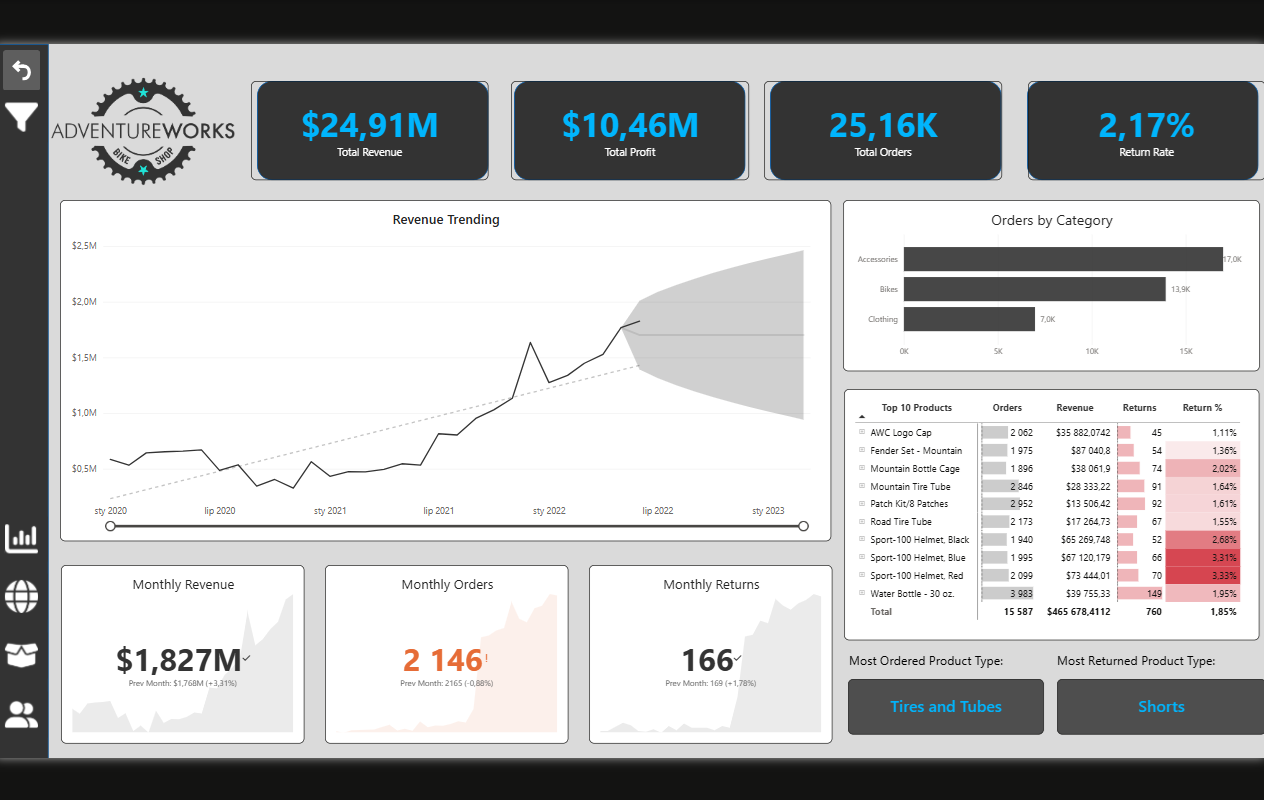

What the dashboard file says about the page in this screenshot:
{"tool":"powerbi","page":{"name":"Exec Dashboard","canvas":[1920,1080],"ordinal":0},"visuals":[{"type":"image","title":"AW Logo","box":[54.8,9.5,340.5,245.2],"z":0},{"type":"shape","title":"Navi background","box":[0,0,81,1081],"z":1000},{"type":"group","id":"g1","title":"KPI Values","box":[387.1,55.7,1532.9,150],"z":2000},{"type":"shape","box":[396.1,55.7,350,150],"z":2000,"group":"g1"},{"type":"card","fields":{"Values":["Measure Table.Total Revenue"]},"box":[387.1,55.7,358.6,150],"z":2500,"group":"g1"},{"type":"lineChart","title":"Revenue Trending","fields":{"Category":["Calendar Lookup.Year","Calendar Lookup.Start of Quarter","Calendar Lookup.Start of Month"],"Y":["Measure Table.Total Revenue"]},"box":[97.7,236.4,1165.9,515.9],"z":3000},{"type":"shape","box":[784.2,55.7,350,150],"z":4000,"group":"g1"},{"type":"kpi","title":"Monthly Revenue","fields":{"Goal":["Measure Table.Previous Month Revenue"],"Indicator":["Measure Table.Total Revenue"],"TrendLine":["Calendar Lookup.Start of Month"]},"box":[99.5,787.7,368.2,270.5],"z":4000},{"type":"shape","box":[1172.3,55.7,350,150],"z":5000,"group":"g1"},{"type":"kpi","title":"Monthly Orders","fields":{"Goal":["Measure Table.Previous Month Orders"],"Indicator":["Measure Table.Total Orders"],"TrendLine":["Calendar Lookup.Start of Month"]},"box":[498.4,787.7,368.2,270.5],"z":5000},{"type":"shape","box":[1560.4,55.7,350,150],"z":6000,"group":"g1"},{"type":"kpi","title":"Monthly Returns","fields":{"Goal":["Measure Table.Previous Month Returns"],"Indicator":["Measure Table.Total Returns"],"TrendLine":["Calendar Lookup.Start of Month"]},"box":[897.3,787.7,368.2,270.5],"z":6000},{"type":"card","fields":{"Values":["Measure Table.Total Profit"]},"box":[780,55.7,360,150],"z":7000,"group":"g1"},{"type":"clusteredBarChart","title":"Orders by Category","fields":{"Category":["Product Categories Lookup.CategoryName"],"Y":["Measure Table.Total Orders"]},"box":[1281.8,236.4,629.5,259.1],"z":7000},{"type":"card","fields":{"Values":["Measure Table.Total Orders"]},"box":[1162.8,55.7,360,150],"z":8000,"group":"g1"},{"type":"pivotTable","fields":{"Rows":["Product Lookup.ProductName","Product Categories Lookup.CategoryName"],"Values":["Measure Table.Total Orders","Measure Table.Total Revenue","Measure Table.Total Returns","Measure Table.Return Rate"]},"box":[1284,522,628,380],"z":8000},{"type":"card","fields":{"Values":["Measure Table.Return Rate"]},"box":[1561.4,55.7,358.6,150],"z":9000,"group":"g1"},{"type":"card","fields":{"Values":["Min(Product Subcategories Lookup.SubcategoryName)"]},"box":[1289.2,960.3,296.1,84.3],"z":9000},{"type":"textbox","box":[1291.1,919.2,235.3,41.2],"z":10000},{"type":"card","fields":{"Values":["Min(Product Subcategories Lookup.SubcategoryName)"]},"box":[1604.9,960.3,315.7,84.3],"z":11000},{"type":"textbox","box":[1604.9,919.2,270.6,41.2],"z":12000},{"type":"actionButton","box":[12.3,8.8,56.1,61.4],"z":13000},{"type":"actionButton","box":[0,712,80,72],"z":14000},{"type":"actionButton","box":[0,887.3,80,74],"z":15000},{"type":"actionButton","box":[0,798.7,80,74],"z":16000},{"type":"actionButton","box":[0,976,80,74],"z":17000},{"type":"actionButton","box":[0,70,80,82],"z":18000}]}

Visuals, with their boxes on the page's 1920x1080 design canvas (x1, y1, x2, y2). These are canvas units, not pixel positions in the 1264x800 screenshot, which may show the page scaled, cropped or inside an application window:
"AW Logo" image: bbox(55, 10, 395, 255)
"Navi background" shape: bbox(0, 0, 81, 1081)
"KPI Values" group: bbox(387, 56, 1920, 206)
shape: bbox(396, 56, 746, 206)
card - Measure Table.Total Revenue: bbox(387, 56, 746, 206)
"Revenue Trending" lineChart: bbox(98, 236, 1264, 752)
shape: bbox(784, 56, 1134, 206)
"Monthly Revenue" kpi: bbox(100, 788, 468, 1058)
shape: bbox(1172, 56, 1522, 206)
"Monthly Orders" kpi: bbox(498, 788, 867, 1058)
shape: bbox(1560, 56, 1910, 206)
"Monthly Returns" kpi: bbox(897, 788, 1266, 1058)
card - Measure Table.Total Profit: bbox(780, 56, 1140, 206)
"Orders by Category" clusteredBarChart: bbox(1282, 236, 1911, 496)
card - Measure Table.Total Orders: bbox(1163, 56, 1523, 206)
pivotTable - Product Lookup.ProductName x Product Categories Lookup.CategoryName: bbox(1284, 522, 1912, 902)
card - Measure Table.Return Rate: bbox(1561, 56, 1920, 206)
card - Min(Product Subcategories Lookup.SubcategoryName): bbox(1289, 960, 1585, 1045)
textbox: bbox(1291, 919, 1526, 960)
card - Min(Product Subcategories Lookup.SubcategoryName): bbox(1605, 960, 1921, 1045)
textbox: bbox(1605, 919, 1876, 960)
actionButton: bbox(12, 9, 68, 70)
actionButton: bbox(0, 712, 80, 784)
actionButton: bbox(0, 887, 80, 961)
actionButton: bbox(0, 799, 80, 873)
actionButton: bbox(0, 976, 80, 1050)
actionButton: bbox(0, 70, 80, 152)
